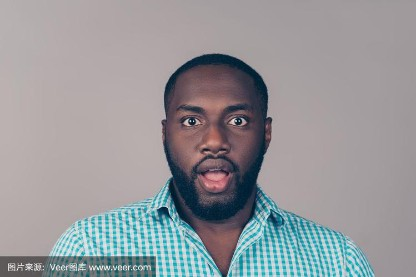张嘴: (196, 158, 235, 193)
